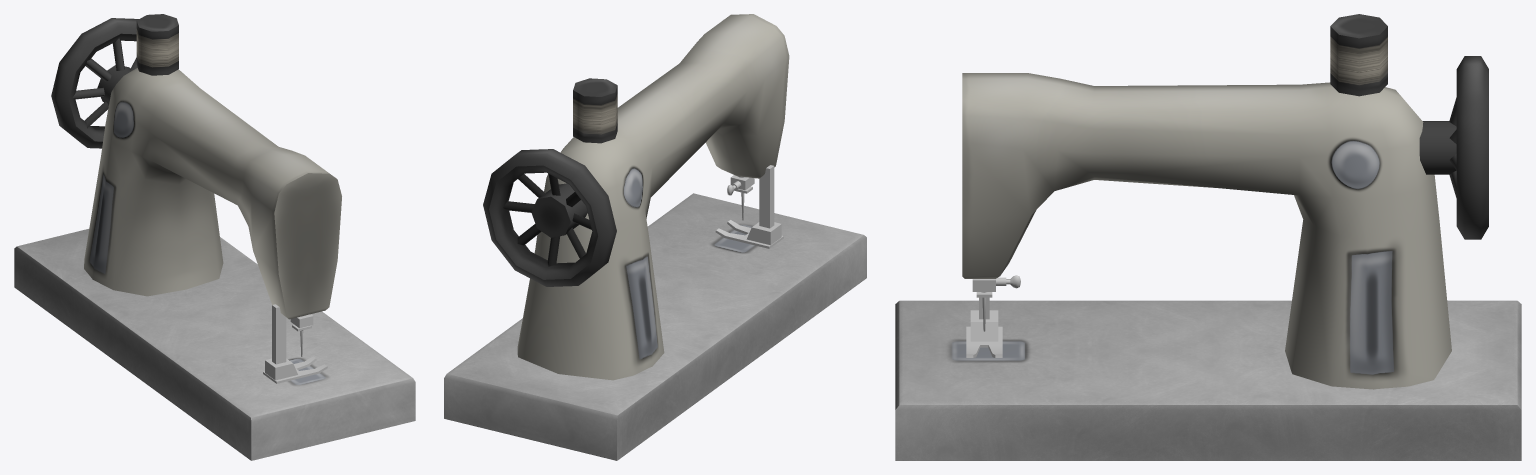
The model's file is BO_Sin1_Sew_ani.FBX.
3 views of the same model, side by side, from view 1: azimuth 30°, elevation 25°; view 2: azimuth 150°, elevation 25°; view 3: azimuth 270°, elevation 25° (orthographic). The views are drawn at different scales.
Parts seen in each view (by area): view 1: BO_Sin1_Sew, BO_Sin1_Sew_support; view 2: BO_Sin1_Sew, BO_Sin1_Sew_support, BO_Sin1_Sew_needle; view 3: BO_Sin1_Sew, BO_Sin1_Sew_support, BO_Sin1_Sew_needle.
Part boxes in pixels (x1=…): BO_Sin1_Sew: x1=14, y1=14, x2=415, y2=460; BO_Sin1_Sew_support: x1=263, y1=304, x2=327, y2=383; BO_Sin1_Sew: x1=444, y1=14, x2=866, y2=460; BO_Sin1_Sew_support: x1=715, y1=165, x2=783, y2=248; BO_Sin1_Sew_needle: x1=727, y1=175, x2=754, y2=220; BO_Sin1_Sew: x1=895, y1=14, x2=1521, y2=460; BO_Sin1_Sew_support: x1=966, y1=297, x2=1002, y2=357; BO_Sin1_Sew_needle: x1=972, y1=275, x2=1020, y2=331.
Size of the model in its own units: 79.77 by 134 by 199.
